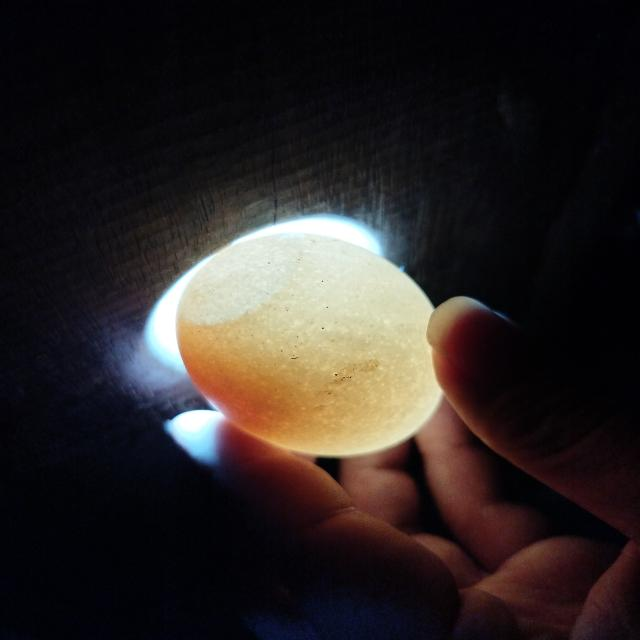Camara de Ar: (178, 232, 300, 324)
